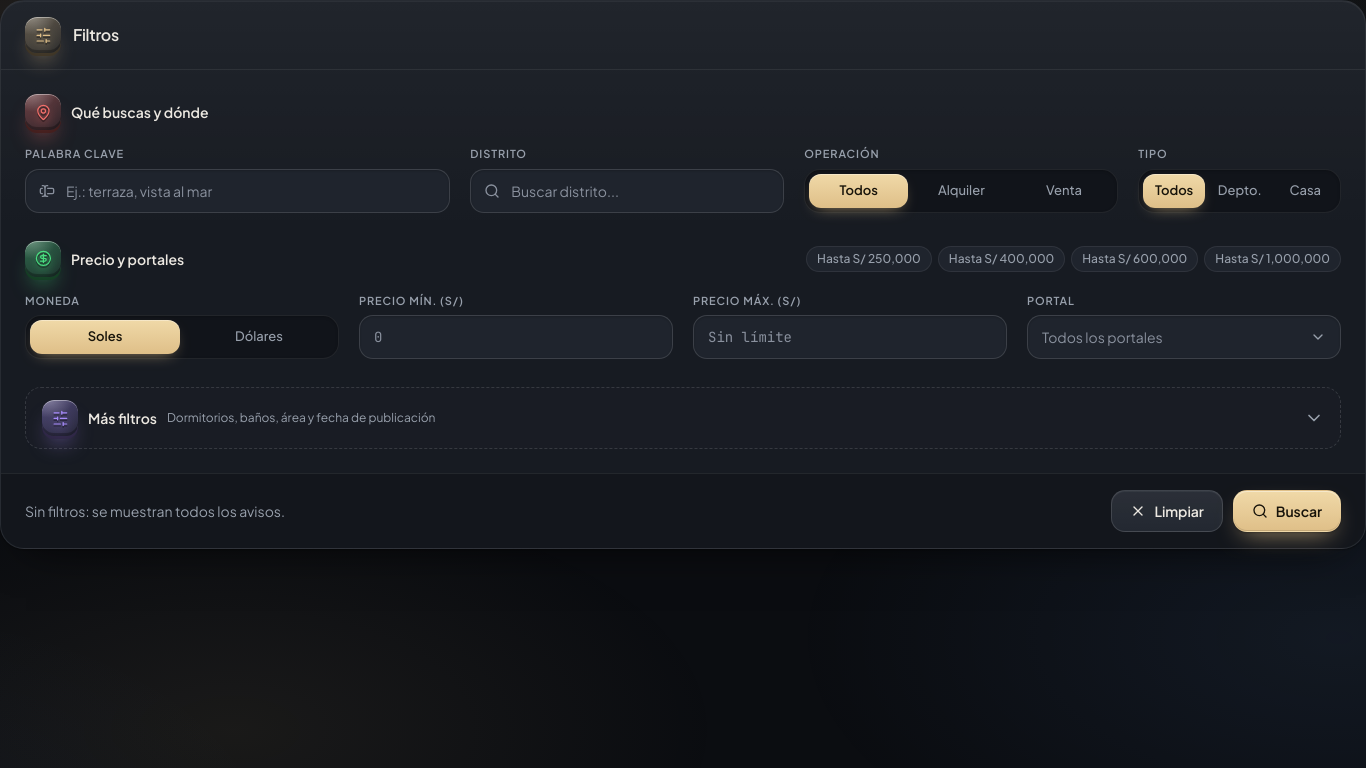
Test case: PortalFilters › escribir una palabra clave y buscar; «Limpiar todo» restablece y avisa
Type "terraza" into the search field labelled "Palabra clave". click: (238, 190)
box: [25,168,450,212]
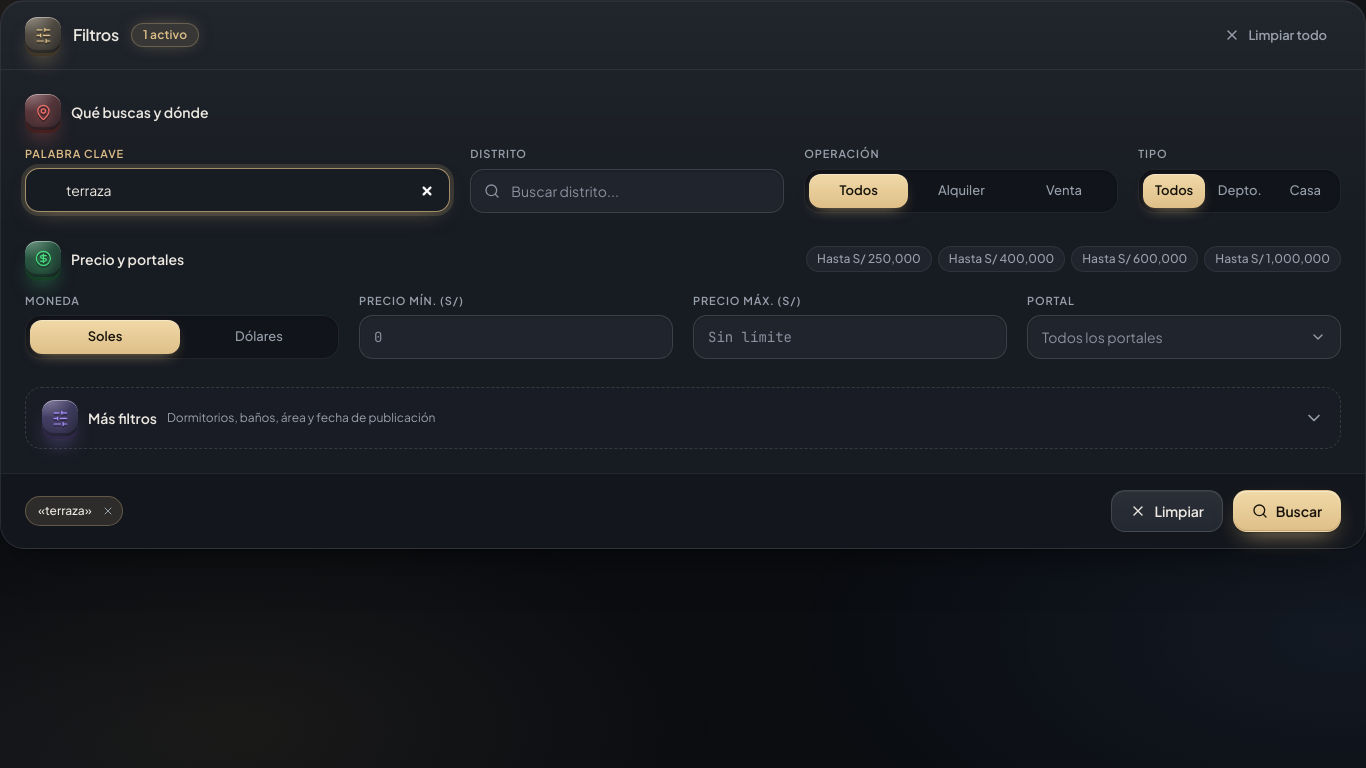
Check: the text "1 activo" is shown, box [131,23,199,47]
Click the button "Buscar". click: (1287, 511)
box: [1233,490,1341,532]
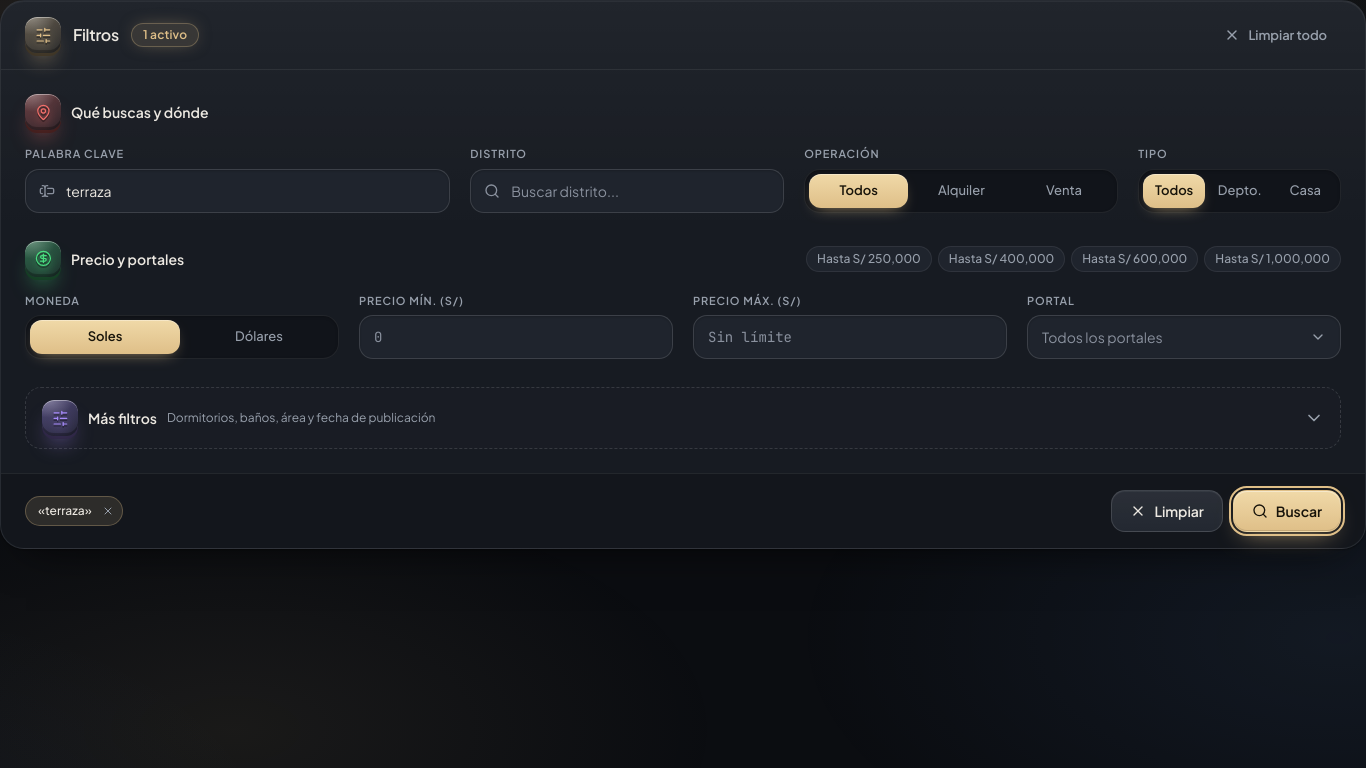
Click the button "Limpiar todo". click: (1276, 35)
box: [1210,18,1341,52]
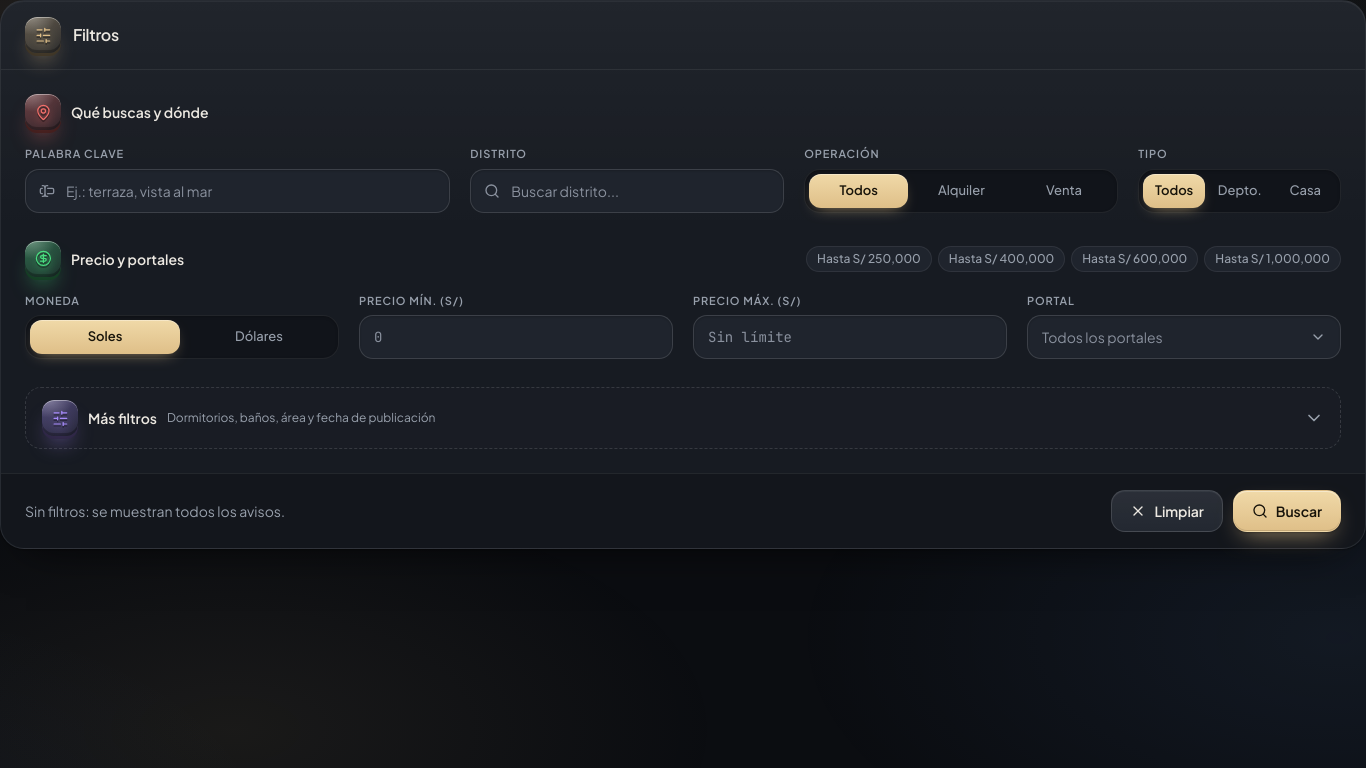
Check: the search field labelled "Palabra clave" is empty, box [25,168,450,212]
